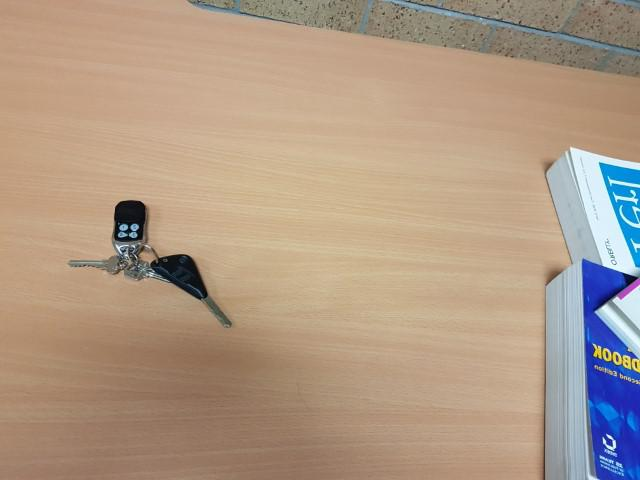key: (152, 254, 232, 328)
